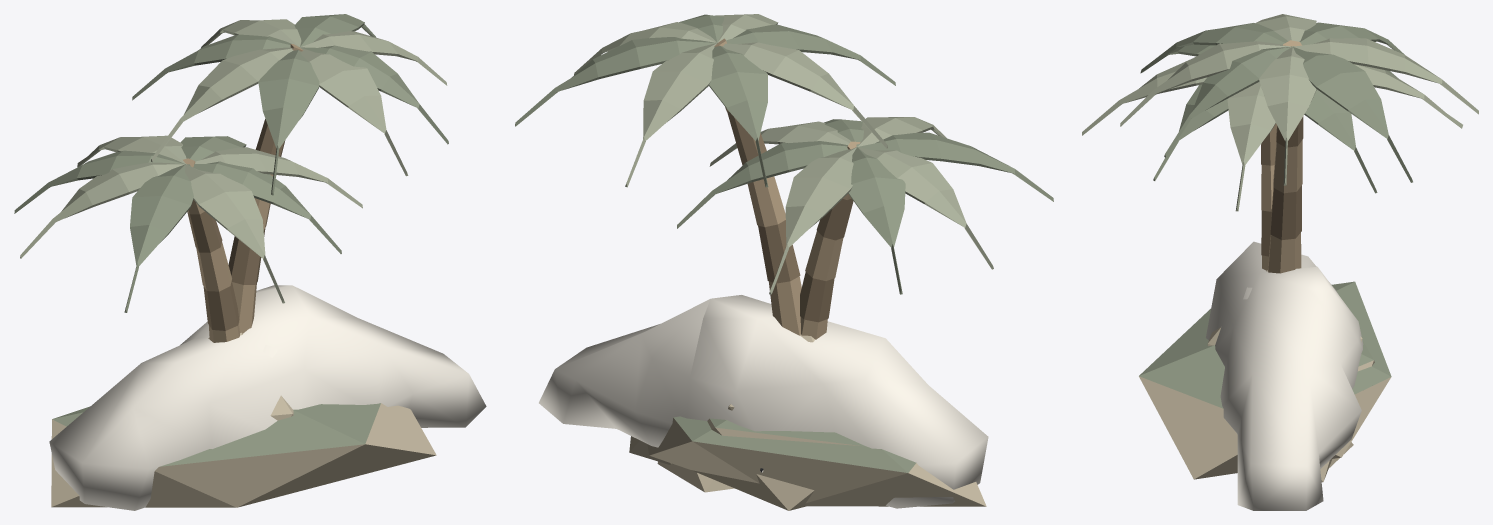
Rendered from props.glb.
The picture shows the model from 3 angles, left to right: view 1: azimuth 30°, elevation 25°; view 2: azimuth 150°, elevation 25°; view 3: azimuth 270°, elevation 25°; orthographic projection. The views are drawn at different scales.
Parts seen in each view (by area): view 1: Cloud_A, Palm_B, Palm_A, Rock_C; view 2: Cloud_A, Palm_A, Palm_B, Rock_C, Rock_A; view 3: Cloud_A, Palm_A, Rock_C, Palm_B.
Part boxes in pixels (x1=…): Cloud_A: x1=49, y1=285, x2=486, y2=510; Palm_B: x1=14, y1=135, x2=362, y2=342; Palm_A: x1=132, y1=14, x2=448, y2=333; Rock_C: x1=51, y1=403, x2=436, y2=507; Cloud_A: x1=539, y1=295, x2=988, y2=508; Palm_A: x1=515, y1=14, x2=895, y2=335; Palm_B: x1=677, y1=117, x2=1053, y2=339; Rock_C: x1=629, y1=416, x2=986, y2=506; Rock_A: x1=657, y1=418, x2=863, y2=510; Cloud_A: x1=1206, y1=241, x2=1363, y2=510; Palm_A: x1=1120, y1=14, x2=1478, y2=273; Rock_C: x1=1139, y1=281, x2=1391, y2=482; Palm_B: x1=1082, y1=44, x2=1462, y2=270.
Size of the model in its own units: 5.29 by 4.8 by 4.15.
